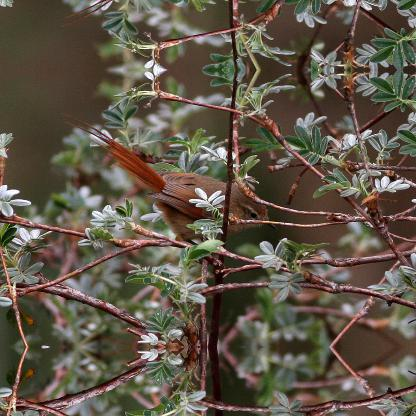Bird: (77, 130, 278, 250)
